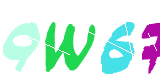6: (75, 0, 155, 80)
7: (79, 0, 159, 80)
9: (26, 0, 106, 80)
W: (34, 0, 114, 80)
